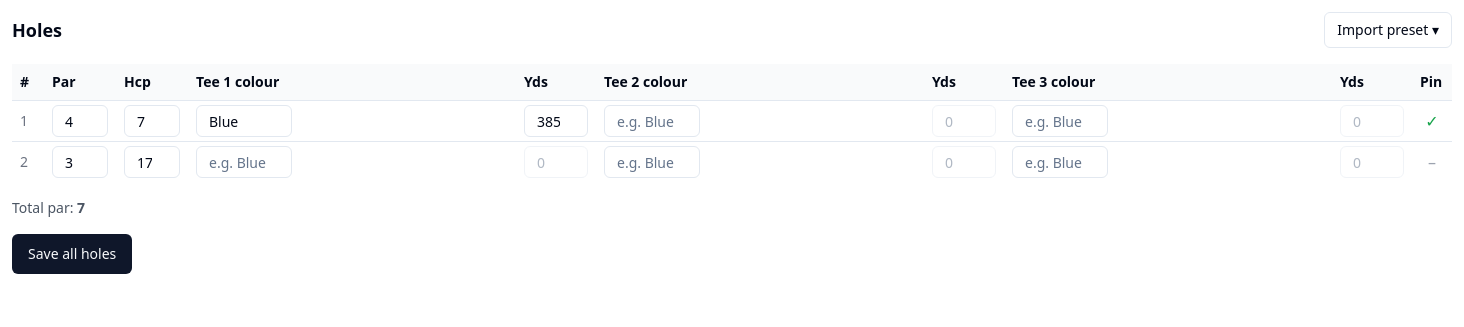
HoleEditor › shows success message when save succeeds
Click the button "Save all holes". click: (72, 254)
box: [12,234,132,274]
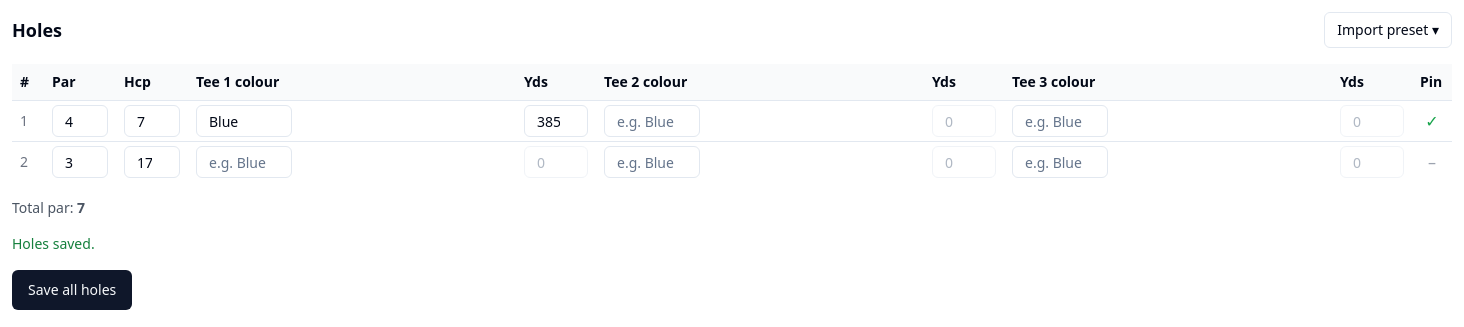
Now the text "Holes saved." is shown, box [12,234,95,253]
